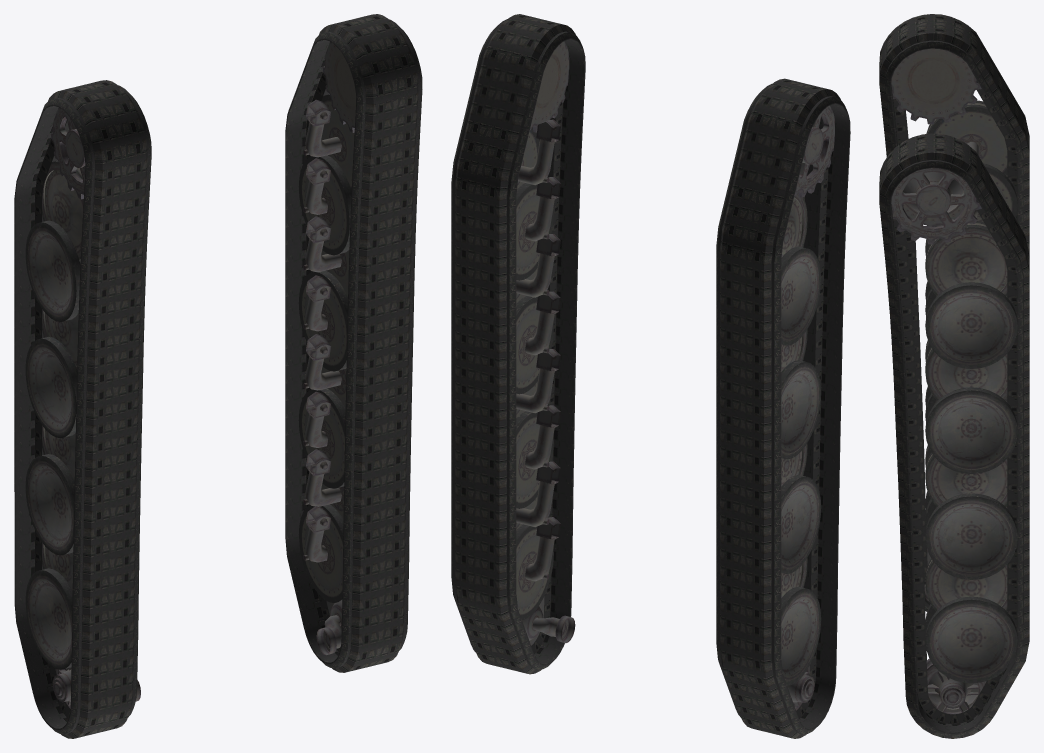
The model's file is Chassis.glb.
The picture shows the model from 3 angles, left to right: view 1: azimuth 30°, elevation 25°; view 2: azimuth 150°, elevation 25°; view 3: azimuth 270°, elevation 25°; orthographic projection. The views are drawn at different scales.
Parts seen in each view (by area): view 1: set_0_group_0, set_1_group_0, set_3_group_0, set_2_group_0; view 2: set_0_group_0, set_1_group_0, set_3_group_0, set_2_group_0; view 3: set_3_group_0, set_1_group_0, set_0_group_0, set_2_group_0.
Part boxes in pixels (<box>): set_0_group_0: <box>14,80,151,738</box>; set_1_group_0: <box>285,14,422,672</box>; set_3_group_0: <box>298,41,355,655</box>; set_2_group_0: <box>25,107,140,708</box>; set_0_group_0: <box>716,78,850,738</box>; set_1_group_0: <box>451,14,585,674</box>; set_3_group_0: <box>516,41,575,645</box>; set_2_group_0: <box>781,105,834,710</box>; set_3_group_0: <box>891,168,1017,714</box>; set_1_group_0: <box>879,133,1029,738</box>; set_0_group_0: <box>879,14,1029,611</box>; set_2_group_0: <box>891,48,1017,601</box>.
Size of the model in its own units: 3.4 by 6.27 by 1.46.
4 materials, 4 textured.
